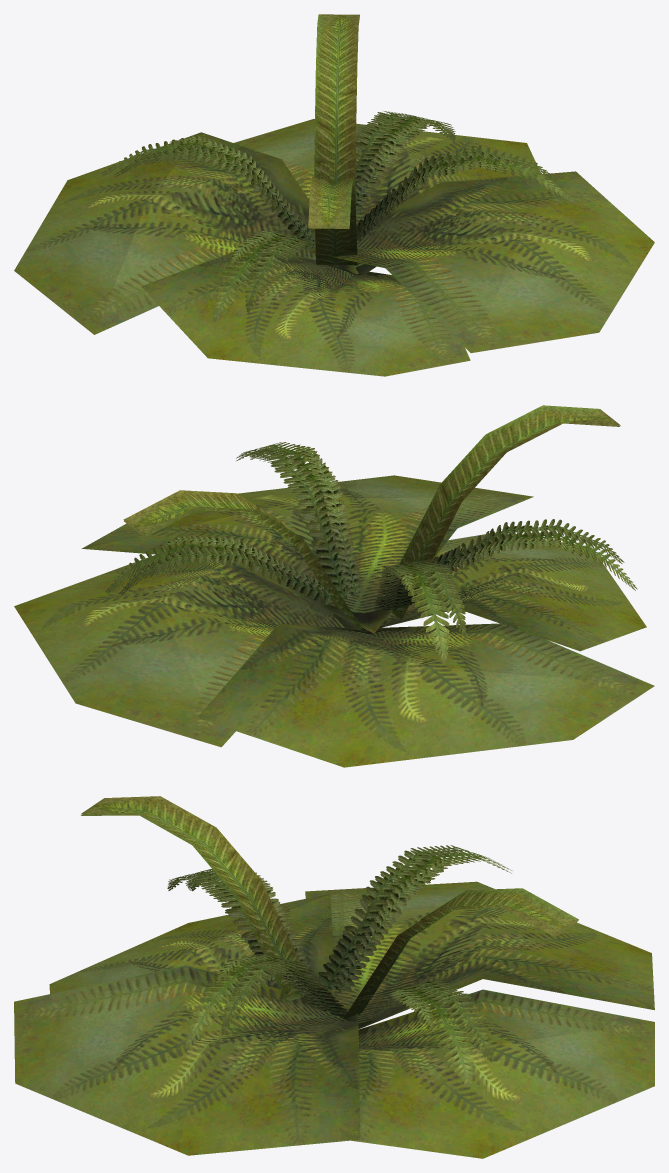
File: frst_fern_olive_sm_l0.fbx
The picture shows the model from 3 angles, top to bottom: view 1: azimuth 30°, elevation 25°; view 2: azimuth 150°, elevation 25°; view 3: azimuth 270°, elevation 25°; orthographic projection. The views are drawn at different scales.
Parts seen in each view (by area): view 1: mesh_node; view 2: mesh_node; view 3: mesh_node.
Part boxes in pixels (<box>): mesh_node: <box>14,14,654,376</box>; mesh_node: <box>14,405,654,767</box>; mesh_node: <box>14,796,654,1158</box>.
Size of the model in its own units: 2.34 by 0.782 by 2.28.
